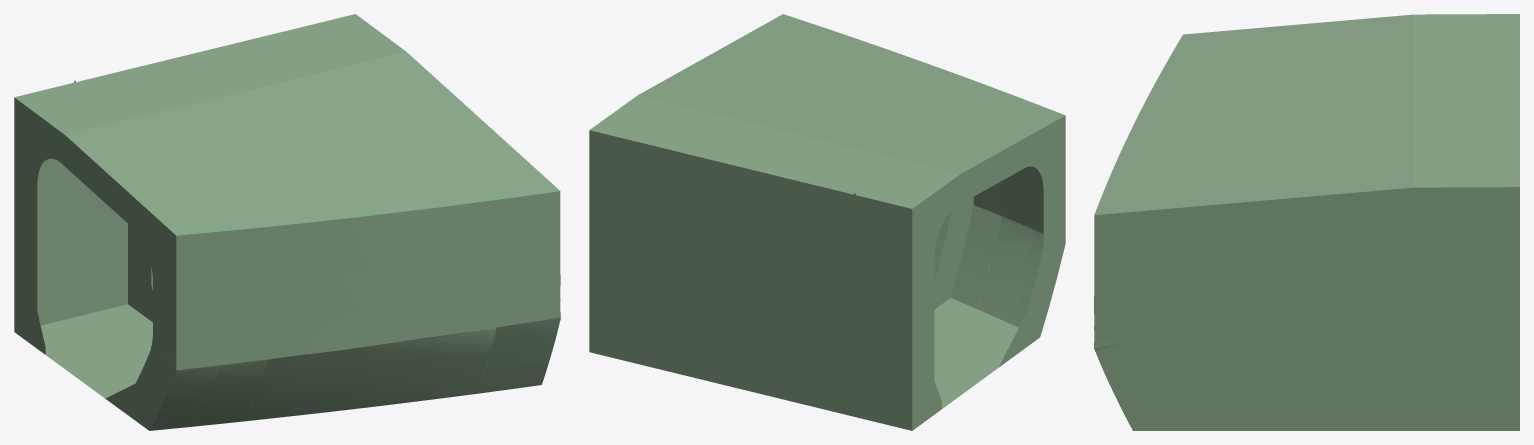
Rendered from NO_2_DIESEL_OIL_TK_SB.glb.
The picture shows the model from 3 angles, left to right: view 1: azimuth 30°, elevation 25°; view 2: azimuth 150°, elevation 25°; view 3: azimuth 270°, elevation 25°; orthographic projection. The views are drawn at different scales.
Parts seen in each view (by area): view 1: PL_OuterShellxEPRS_059002-17_NVA_1993, PL_UDxEPRS_052002-14.5_NVA_1993, PL_OuterShellxEPRS_070002-17_NVA_1993, PL_UDxEPRS_046004-14.5_NVA_1993, PL_OuterShellxEPRS_064004-17_NVA_1993, PL_OuterShellxEPRS_064005-17_NVA_1993, PL_UDxEPRS_041003-14.5_NVA_1993, PL_UDxEPRS_054002-14.5_NVA_1993, PL_OuterShellxEPRS_059001-17_NVA_1993, PL_UDxEPRS_052001-14.5_NVA_1993, PL_OuterShellxEPRS_070001-17_NVA_1993, PL_UDxEPRS_046002-14.5_NVA_1993 (+43 smaller); view 2: PL_LBHDxEPRS_022002-12.5_NVA_1993, PL_LBHDxEPRS_020002-12.5_NVA_1993, PL_UDxEPRS_052002-14.5_NVA_1993, PL_LBHDxEPRS_021005-12.5_NVA_1993, PL_UDxEPRS_046004-14.5_NVA_1993, PL_UDxEPRS_041003-14.5_NVA_1993, PL_LBHDxEPRS_021004-12.5_NVA_1993, PL_LBHDxEPRS_022001-12.5_NVA_1993, PL_UDxEPRS_054002-14.5_NVA_1993, PL_LBHDxEPRS_020001-12.5_NVA_1993, PL_LBHDxEPRS_022004-12.5_NVA_1993, PL_OuterShellxEPRS_059004-17_NVA_1993 (+41 smaller); view 3: PL_TransxFR45S_021002-12.5_NVA_1993, PL_TransxFR45S_019002-12.5_NVA_1993, PL_TransxFR45S_018004-12.5_NVA_1993, PL_TransxFR45S_020001-12.5_NVA_1993, PL_UDxEPRS_052002-14.5_NVA_1993, PL_UDxEPRS_046004-14.5_NVA_1993, PL_UDxEPRS_041003-14.5_NVA_1993, PL_UDxEPRS_054002-14.5_NVA_1993, PL_UDxEPRS_052001-14.5_NVA_1993, PL_UDxEPRS_046002-14.5_NVA_1993, PL_UDxEPRS_041001-14.5_NVA_1993, PL_UDxEPRS_041002-14.5_NVA_1993 (+15 smaller).
Boxes of the visible parts, x1,y1,x2,y2 form: PL_OuterShellxEPRS_059002-17_NVA_1993: [243, 327, 496, 420]; PL_UDxEPRS_052002-14.5_NVA_1993: [197, 113, 458, 215]; PL_OuterShellxEPRS_070002-17_NVA_1993: [267, 200, 496, 284]; PL_UDxEPRS_046004-14.5_NVA_1993: [145, 66, 399, 162]; PL_OuterShellxEPRS_064004-17_NVA_1993: [267, 253, 496, 327]; PL_OuterShellxEPRS_064005-17_NVA_1993: [267, 296, 496, 359]; PL_UDxEPRS_041003-14.5_NVA_1993: [94, 28, 328, 100]; PL_UDxEPRS_054002-14.5_NVA_1993: [255, 166, 495, 226]; PL_OuterShellxEPRS_059001-17_NVA_1993: [477, 317, 560, 392]; PL_UDxEPRS_052001-14.5_NVA_1993: [401, 99, 516, 165]; PL_OuterShellxEPRS_070001-17_NVA_1993: [496, 191, 560, 252]; PL_UDxEPRS_046002-14.5_NVA_1993: [349, 52, 452, 107]; PL_LBHDxEPRS_022002-12.5_NVA_1993: [644, 143, 836, 278]; PL_LBHDxEPRS_020002-12.5_NVA_1993: [644, 299, 836, 412]; PL_UDxEPRS_052002-14.5_NVA_1993: [742, 50, 988, 128]; PL_LBHDxEPRS_021005-12.5_NVA_1993: [644, 259, 836, 345]; PL_UDxEPRS_046004-14.5_NVA_1993: [693, 81, 933, 155]; PL_UDxEPRS_041003-14.5_NVA_1993: [645, 122, 866, 190]; PL_LBHDxEPRS_021004-12.5_NVA_1993: [644, 231, 836, 305]; PL_LBHDxEPRS_022001-12.5_NVA_1993: [589, 130, 644, 231]; PL_UDxEPRS_054002-14.5_NVA_1993: [797, 30, 1000, 97]; PL_LBHDxEPRS_020001-12.5_NVA_1993: [589, 285, 644, 365]; PL_LBHDxEPRS_022004-12.5_NVA_1993: [837, 190, 876, 287]; PL_OuterShellxEPRS_059004-17_NVA_1993: [978, 216, 1034, 322]; PL_TransxFR45S_021002-12.5_NVA_1993: [1317, 187, 1519, 310]; PL_TransxFR45S_019002-12.5_NVA_1993: [1094, 314, 1314, 430]; PL_TransxFR45S_018004-12.5_NVA_1993: [1317, 314, 1519, 430]; PL_TransxFR45S_020001-12.5_NVA_1993: [1094, 196, 1314, 310]; PL_UDxEPRS_052002-14.5_NVA_1993: [1184, 64, 1305, 177]; PL_UDxEPRS_046004-14.5_NVA_1993: [1306, 55, 1413, 167]; PL_UDxEPRS_041003-14.5_NVA_1993: [1454, 54, 1519, 157]; PL_UDxEPRS_054002-14.5_NVA_1993: [1106, 74, 1184, 184]; PL_UDxEPRS_052001-14.5_NVA_1993: [1184, 167, 1305, 207]; PL_UDxEPRS_046002-14.5_NVA_1993: [1317, 158, 1413, 195]; PL_UDxEPRS_041001-14.5_NVA_1993: [1429, 157, 1519, 187]; PL_UDxEPRS_041002-14.5_NVA_1993: [1429, 54, 1454, 157].
Size of the model in its own units: 13.51 by 8.98 by 14.04.
